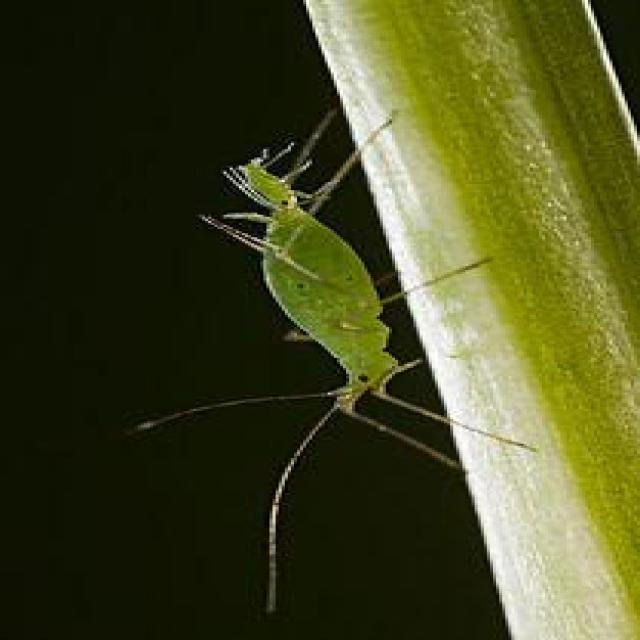Aphids: (115, 105, 559, 592)
